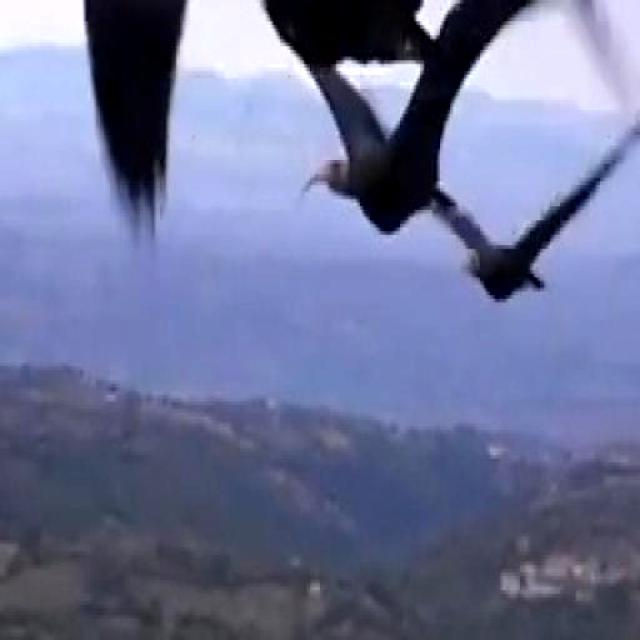airplane: (79, 0, 566, 258), (295, 0, 568, 242), (431, 106, 640, 315)
